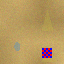person: (14, 42, 20, 51)
structure: (41, 9, 53, 30)
